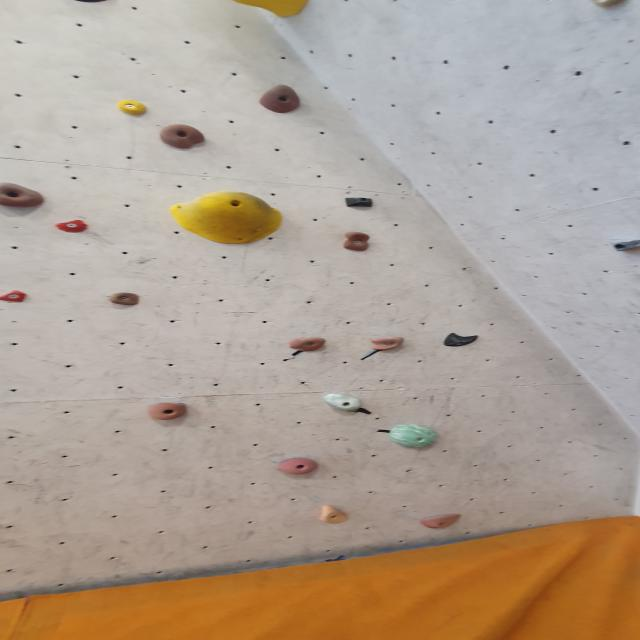Crimp: (419, 512, 466, 532), (114, 98, 152, 120), (52, 217, 92, 236), (0, 289, 29, 305)
Jug: (258, 84, 306, 116), (157, 123, 211, 151), (1, 180, 49, 210), (276, 456, 322, 477), (144, 404, 192, 423), (341, 232, 375, 254), (286, 338, 329, 355), (367, 336, 406, 354), (106, 290, 144, 307)
Pinch: (322, 391, 364, 413), (316, 504, 352, 526), (343, 196, 376, 212)
Sloper: (167, 188, 287, 247), (197, 0, 318, 22), (389, 424, 440, 451)
